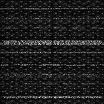lte: (1, 40, 104, 45), (1, 95, 104, 98), (1, 50, 104, 53)
